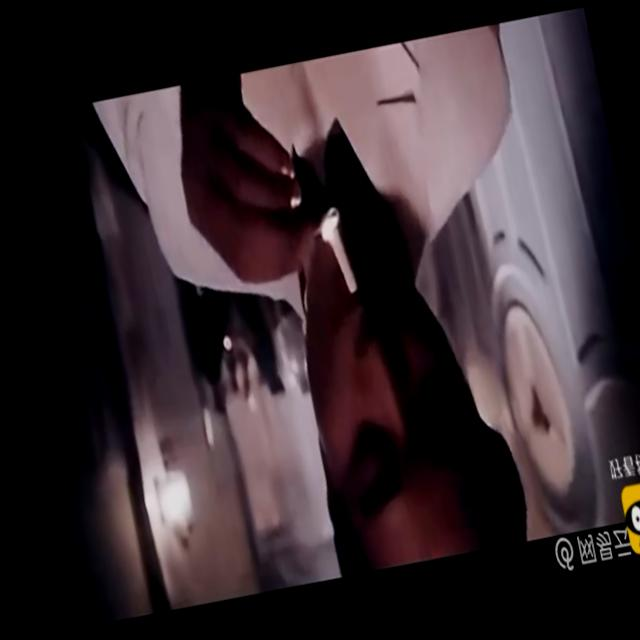cigarette: (323, 218, 360, 302)
